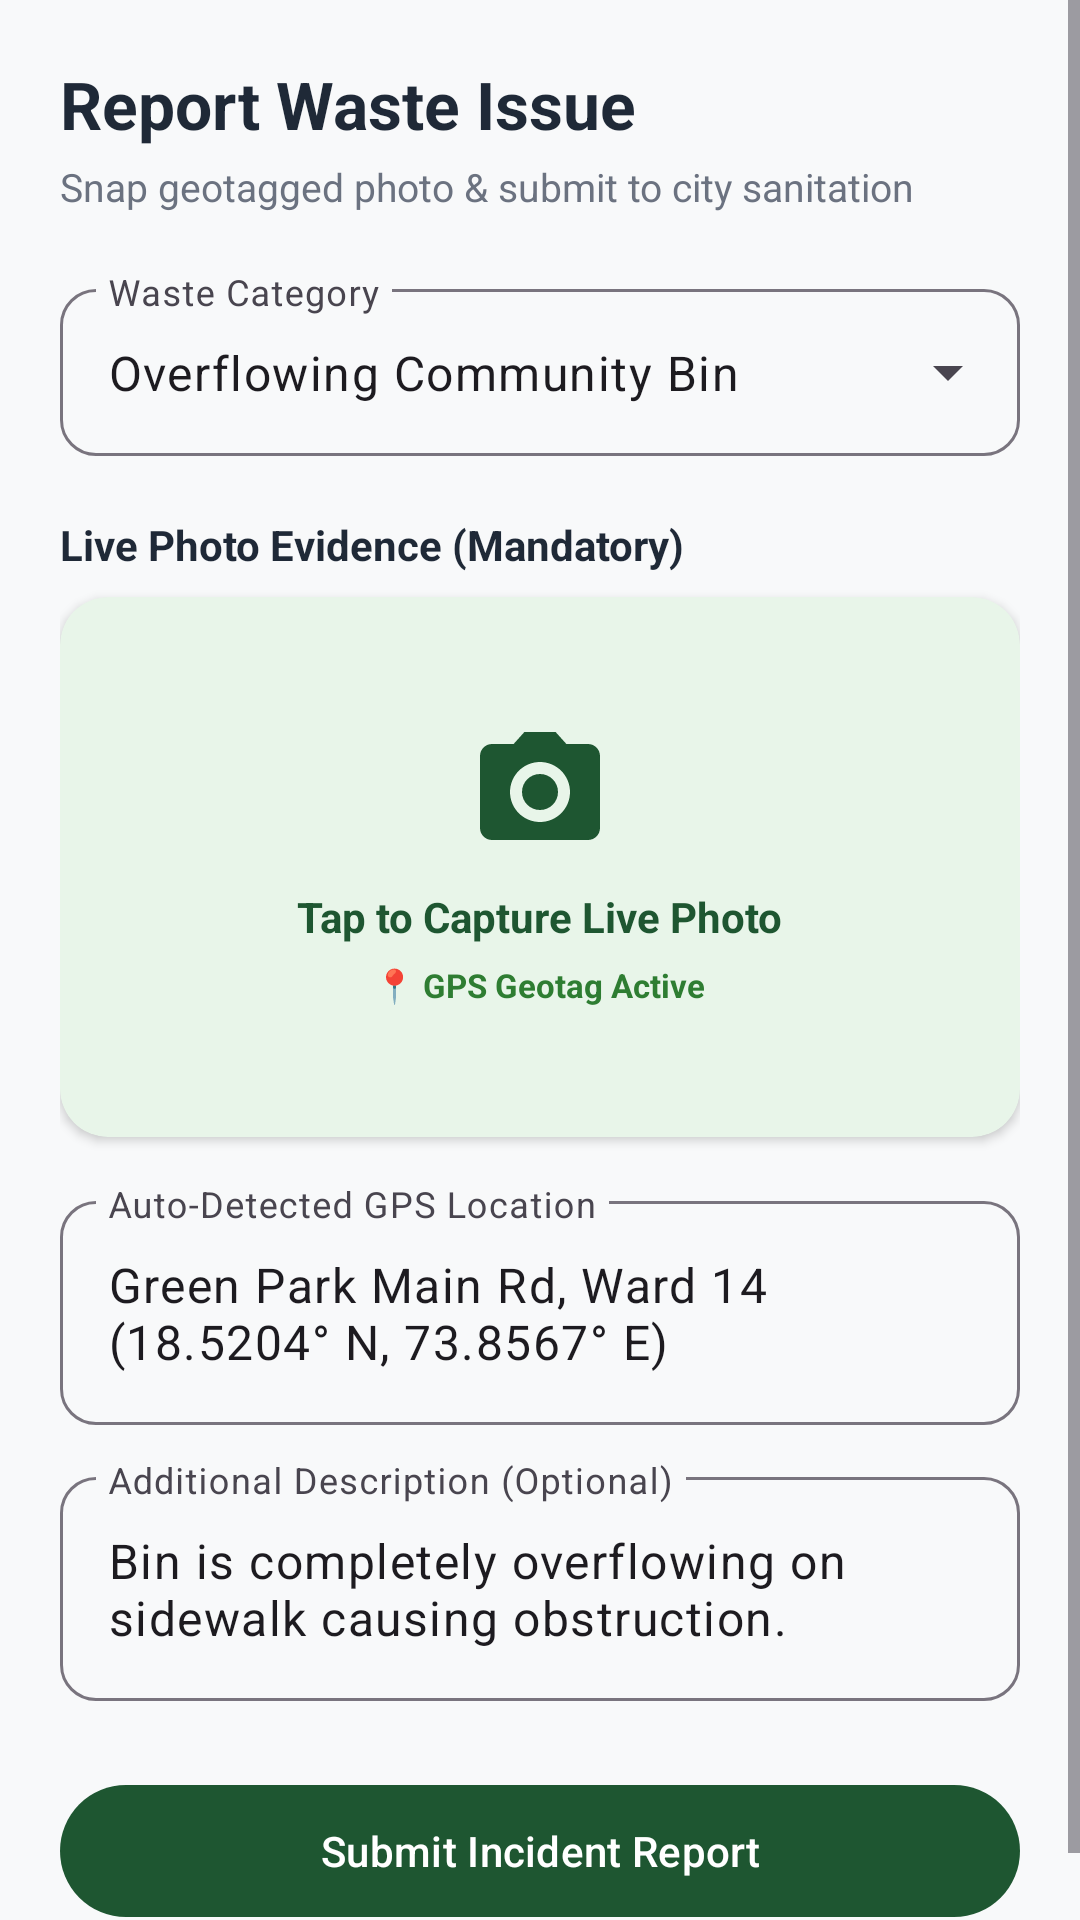

Screen size 1080px x 1920px. Icon name, then its box in pixels as (x1, y1, x2, y2):
camera geotag: (480, 732, 600, 840)
